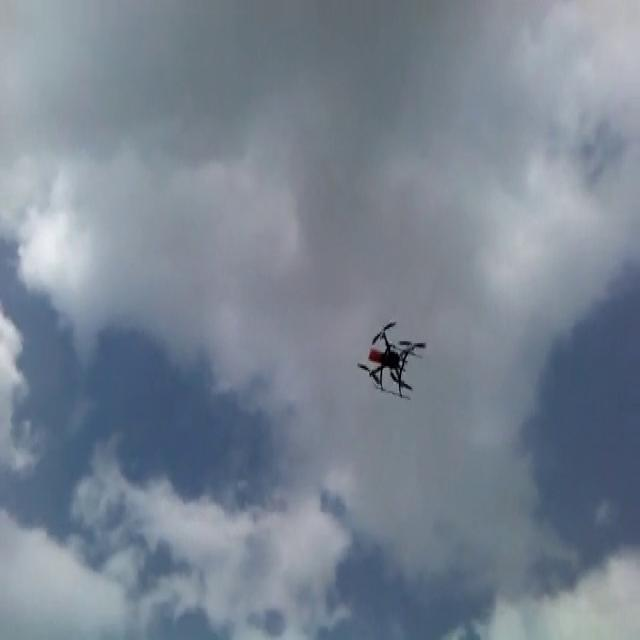drone: (354, 316, 426, 400)
